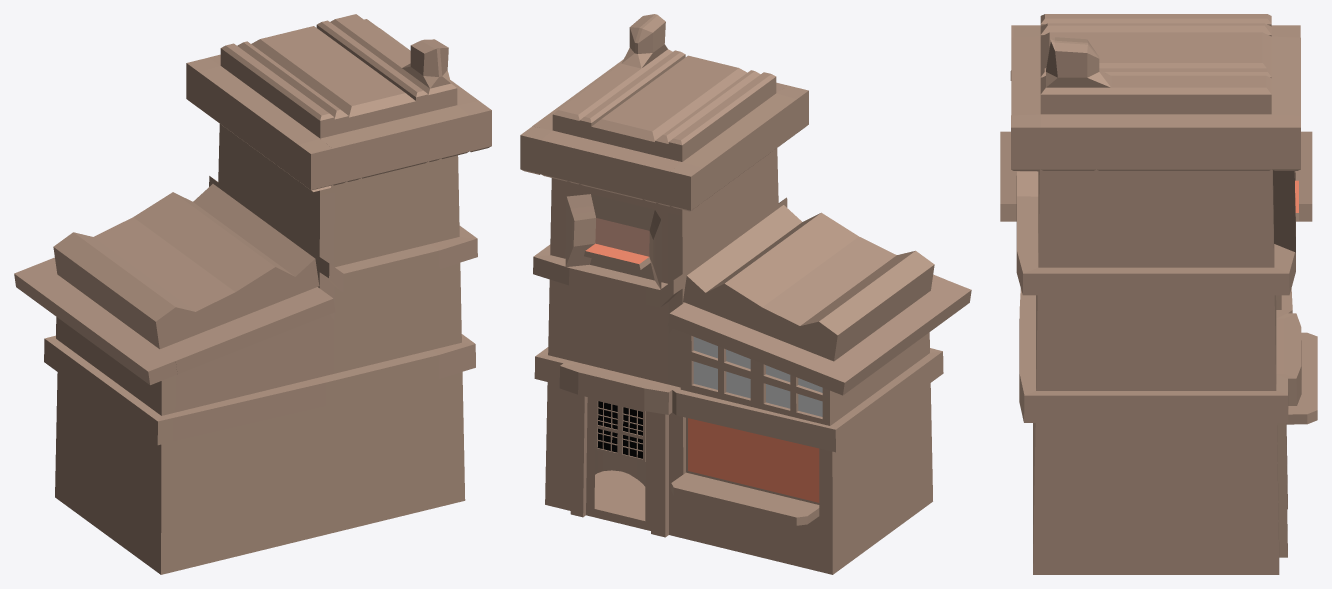
Rendered from Building_Four.fbx.
The picture shows the model from 3 angles, left to right: view 1: azimuth 30°, elevation 25°; view 2: azimuth 150°, elevation 25°; view 3: azimuth 270°, elevation 25°; orthographic projection. The views are drawn at different scales.
Visible parts, largest first — view 1: Plane.004; view 2: Plane.004; view 3: Plane.004.
Part boxes in pixels (x1=…): Plane.004: x1=14, y1=14, x2=491, y2=574; Plane.004: x1=520, y1=14, x2=971, y2=574; Plane.004: x1=1000, y1=14, x2=1317, y2=574.
Size of the model in its own units: 1544 by 1911 by 1050.
